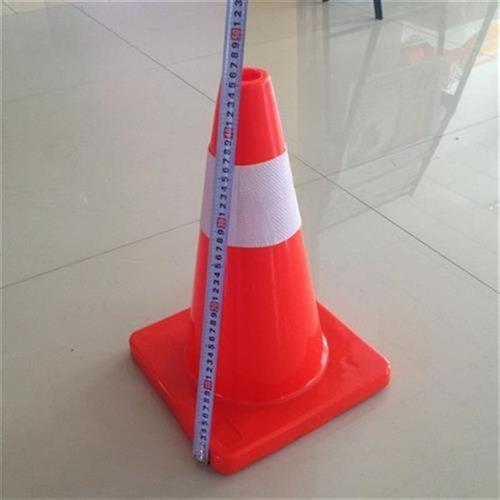cone_barrel: (164, 65, 335, 412)
